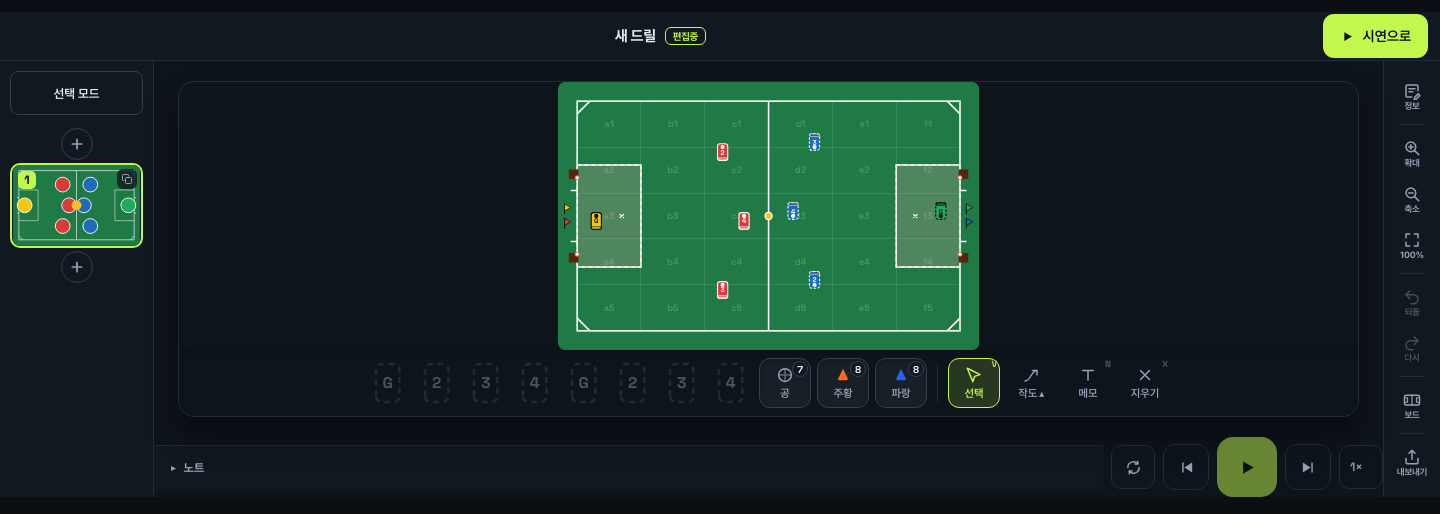
Test case: 드릴 편집 모드 › 목록 끝 틈의 [+] 한 번으로 새 장이 뒤에 쌓이고 그 장이 선택된다
Expected: the navigation bar named "도구" is shown, [179, 350, 1358, 416]
Expected: the number of buttons "1" is 1, [10, 163, 143, 248]
Click the button named "스텝 1 을 복제해 바로 뒤에 넣기". click: (76, 267)
box: [60, 251, 92, 283]
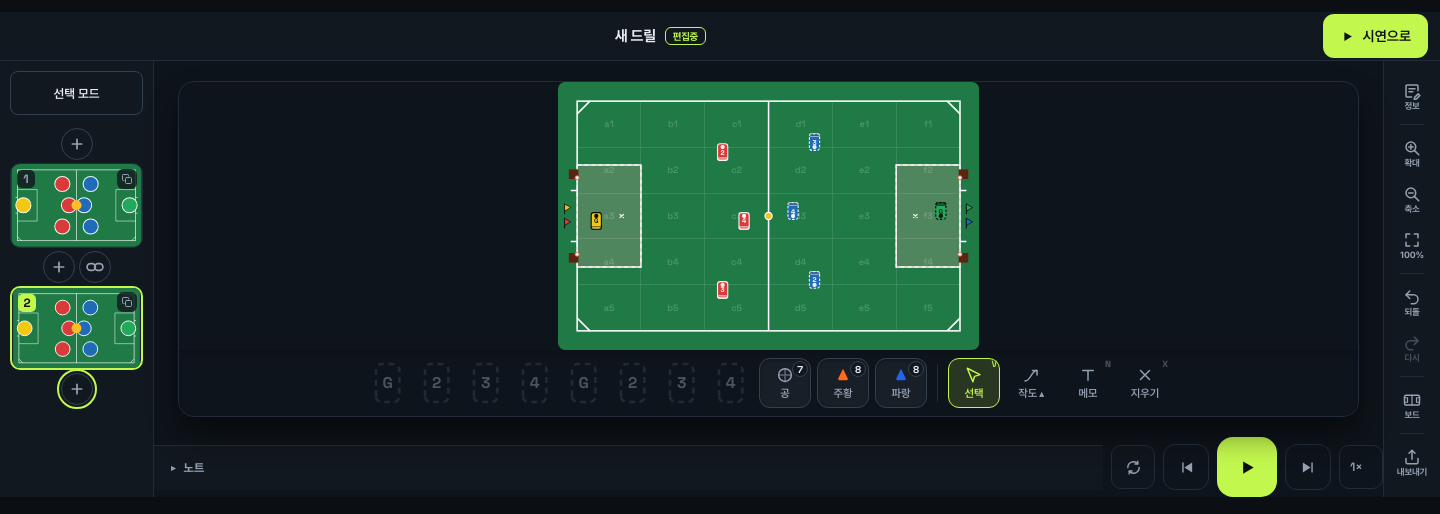
Expected: the number of buttons "1" is 2, [10, 163, 143, 248]; [10, 286, 143, 370]
